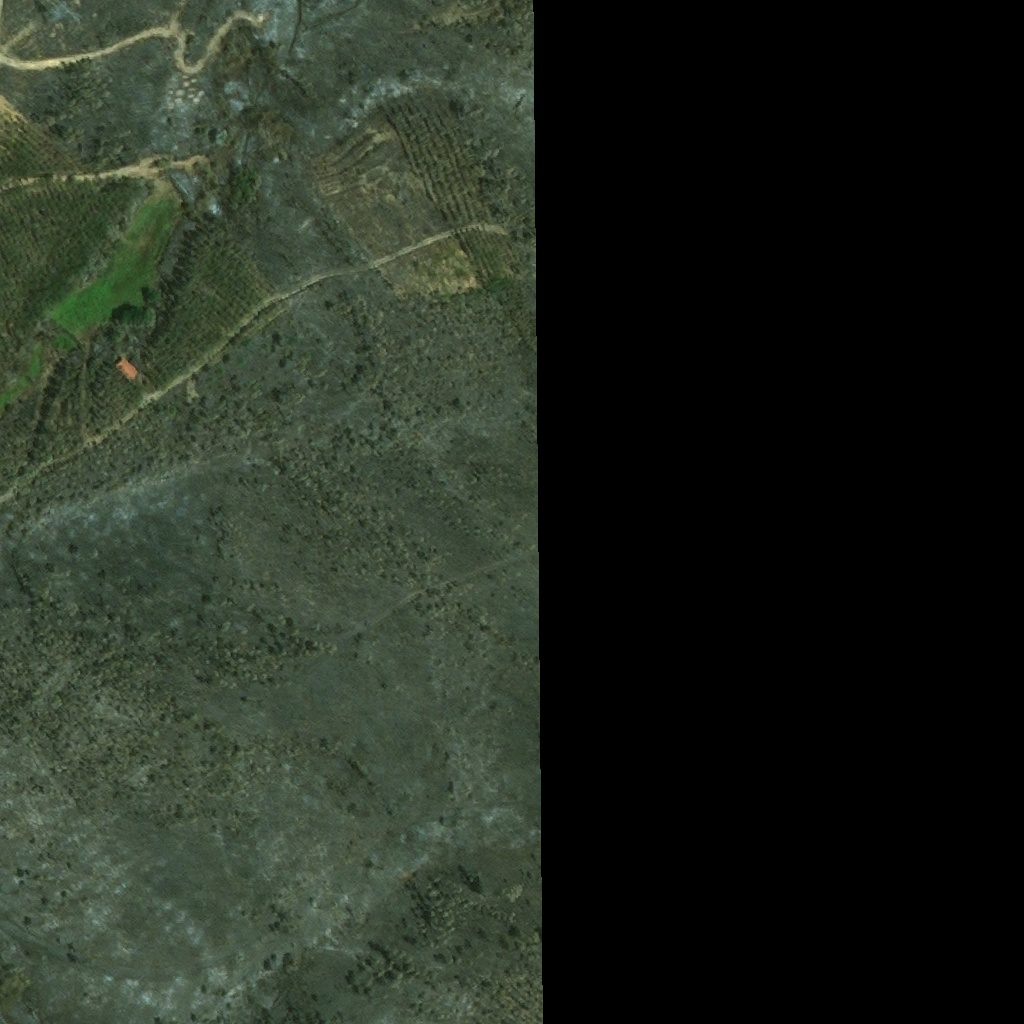0 no-damage: (113, 357, 140, 384)
